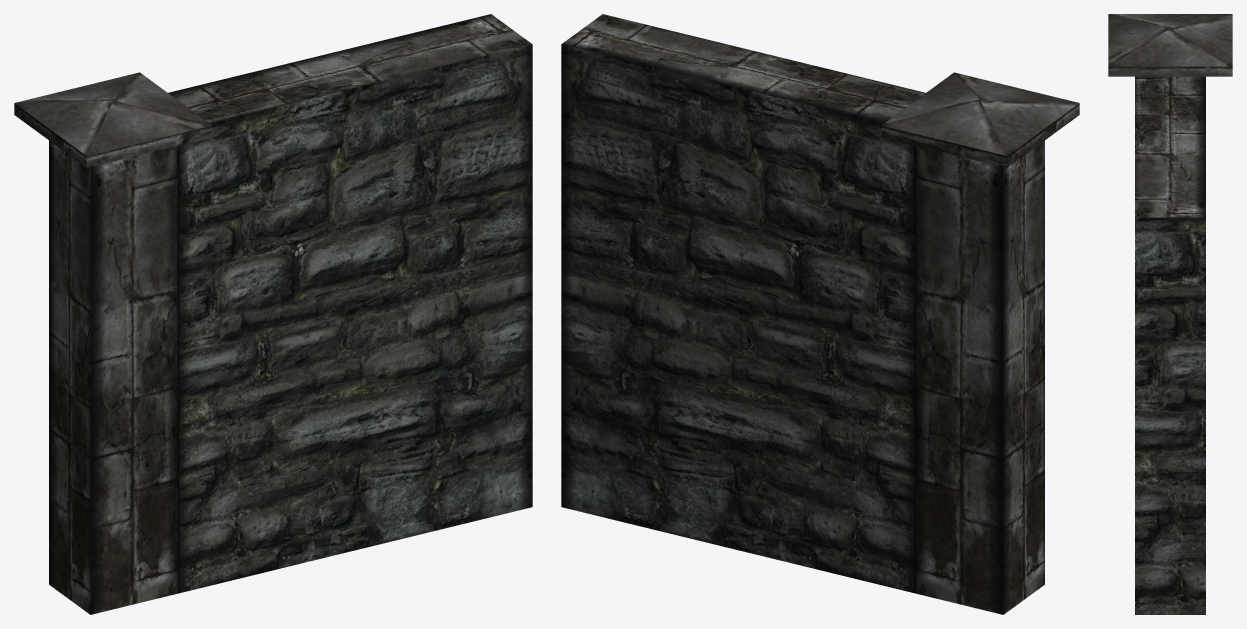
Rendered from fencewall03.DAE.
3 views of the same model, side by side, from view 1: azimuth 30°, elevation 25°; view 2: azimuth 150°, elevation 25°; view 3: azimuth 270°, elevation 25° (orthographic). The views are drawn at different scales.
Visible parts, largest first — view 1: Box001; view 2: Box001; view 3: Box001.
Boxes of the visible parts, box(x1,y1,x2,y2) form: Box001: box(14, 14, 532, 614); Box001: box(561, 14, 1079, 614); Box001: box(1108, 14, 1232, 614).
Size of the model in its own units: 4.17 by 4.22 by 1.14.
